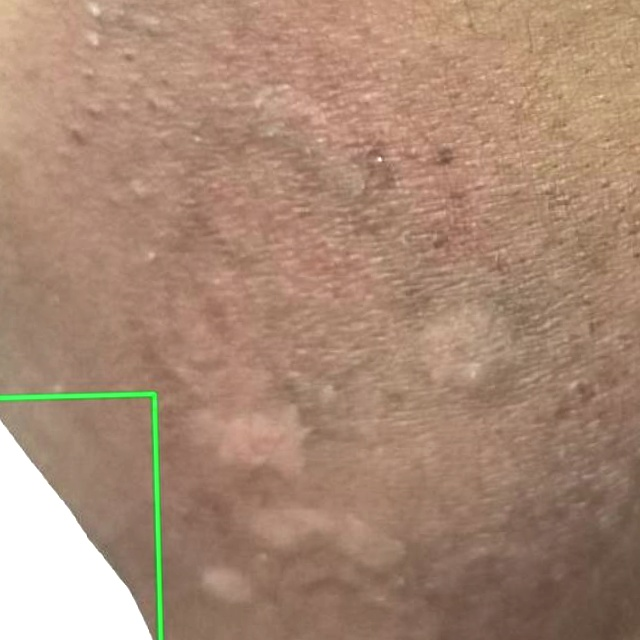Eczema: (0, 393, 160, 639)
